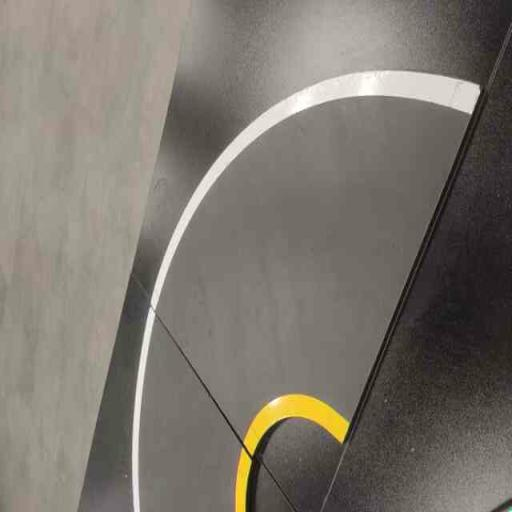left: (144, 4, 486, 460)
